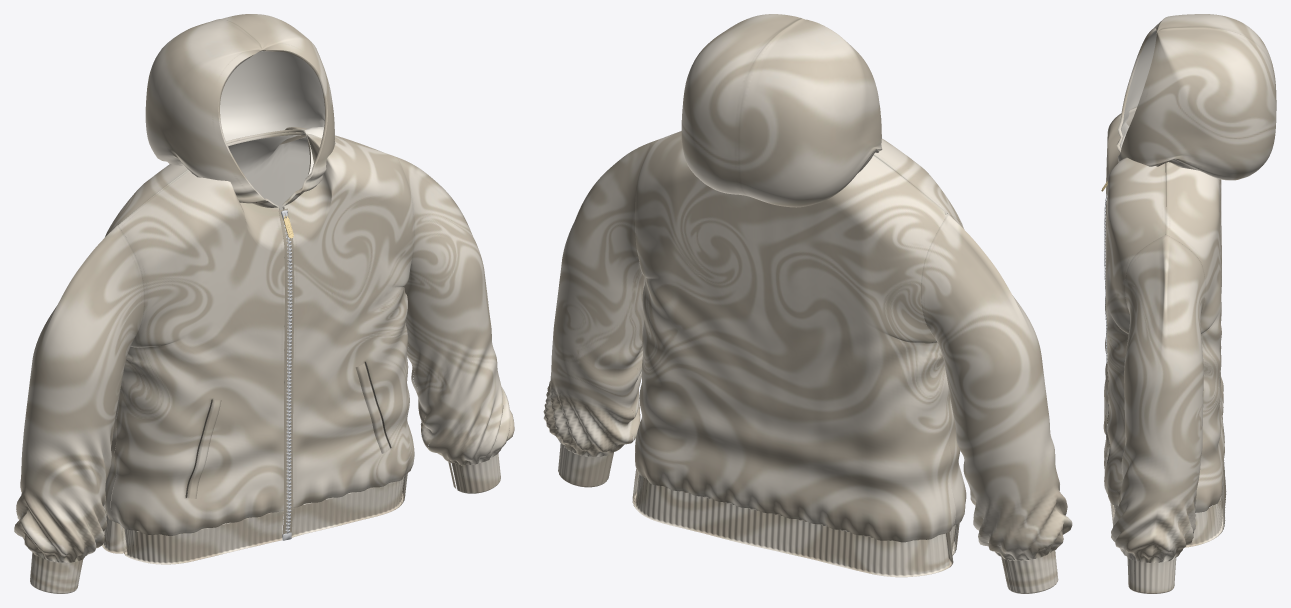
File: ressac-v2-ivory-tide.glb
The picture shows the model from 3 angles, left to right: view 1: azimuth 30°, elevation 25°; view 2: azimuth 150°, elevation 25°; view 3: azimuth 270°, elevation 25°; orthographic projection. The views are drawn at different scales.
Parts seen in each view (by area): view 1: Panel_Right, Panel_Left, Sleeve_Right, Sleeve_Left, Hood_Outer, Hem, Hood_Inner, Body_Back, Zip_Teeth_Right, Zip_Teeth_Left, Cuff_Right, Cuff_Left (+2 smaller); view 2: Body_Back, Hood_Outer, Sleeve_Right, Sleeve_Left, Hem, Panel_Right, Cuff_Right, Cuff_Left; view 3: Sleeve_Left, Hood_Outer, Panel_Left, Body_Back, Cuff_Left, Hem, Hood_Inner, Panel_Right, Pocket_Left, Zip_Teeth_Left.
Boxes of the visible parts, x1,y1,x2,y2 form: Panel_Right: (111,170,284,535); Panel_Left: (282,133,414,508); Sleeve_Right: (14,225,144,562); Sleeve_Left: (397,157,514,465); Hood_Outer: (145,14,335,207); Hem: (102,473,407,564); Hood_Inner: (220,51,324,175); Body_Back: (103,127,381,521); Zip_Teeth_Right: (278,209,291,540); Zip_Teeth_Left: (283,208,294,539); Cuff_Right: (30,552,83,593); Cuff_Left: (448,453,500,493); Body_Back: (634,132,955,542); Hood_Outer: (681,14,882,207); Sleeve_Right: (921,214,1072,560); Sleeve_Left: (543,142,651,457); Hem: (632,469,959,577); Panel_Right: (873,138,966,529); Cuff_Right: (1001,550,1058,593); Cuff_Left: (558,443,613,487); Sleeve_Left: (1111,234,1205,562); Hood_Outer: (1116,14,1276,180); Panel_Left: (1104,157,1166,506); Body_Back: (1165,162,1224,512); Cuff_Left: (1127,557,1176,593); Hem: (1110,423,1226,547); Hood_Inner: (1119,30,1168,160); Panel_Right: (1103,106,1137,435); Pocket_Left: (1105,363,1109,462); Zip_Teeth_Left: (1104,192,1107,425).
Size of the model in its own units: 0.9508 by 0.9165 by 0.3121.
6 materials, 1 textured.
